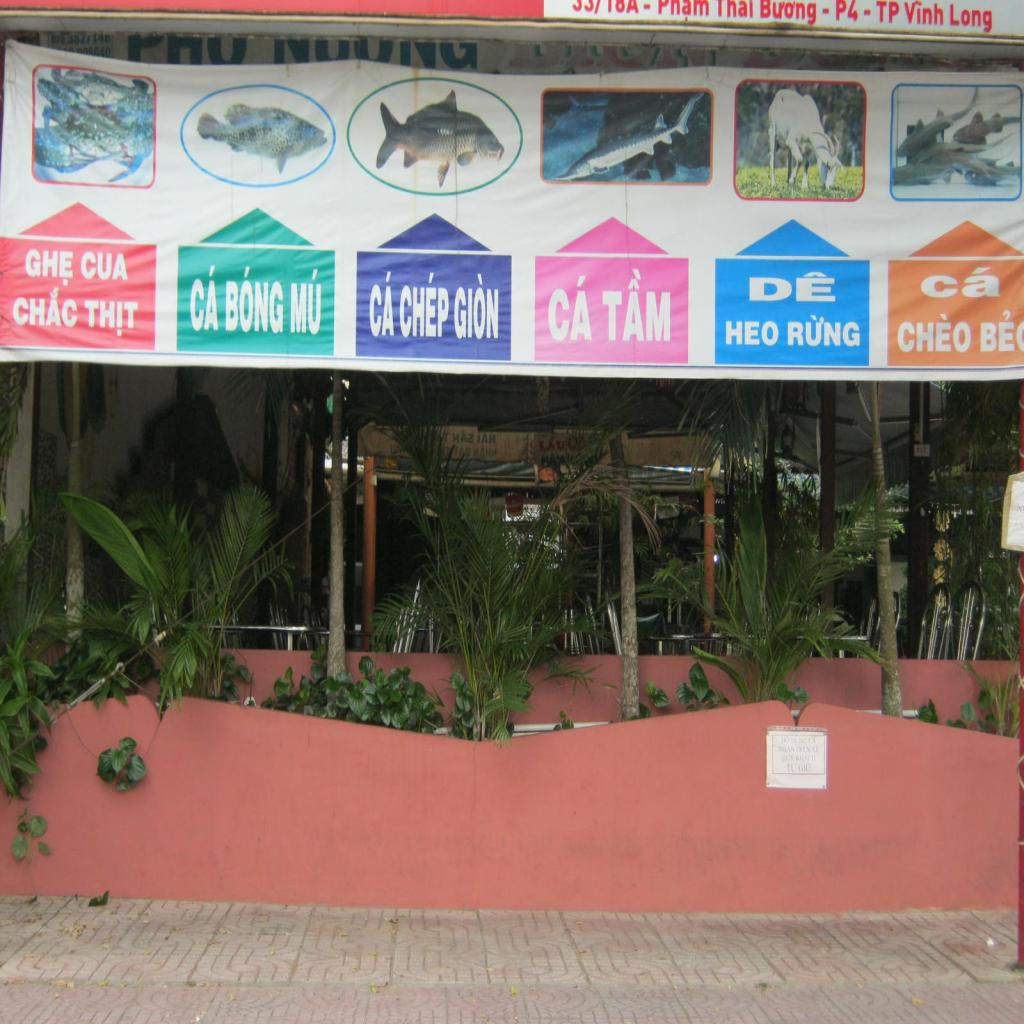text: (598, 266, 674, 348), (222, 262, 288, 338), (398, 268, 452, 344), (544, 270, 595, 346), (896, 310, 972, 359), (452, 271, 501, 344), (782, 312, 865, 354), (916, 264, 1003, 303), (746, 268, 838, 304), (11, 284, 80, 330), (82, 296, 141, 341), (289, 265, 323, 337), (190, 263, 222, 334), (23, 248, 77, 288), (368, 268, 396, 340), (976, 309, 1018, 354), (80, 249, 132, 285), (724, 318, 780, 348), (903, 0, 947, 28), (680, 0, 712, 23), (536, 432, 566, 454), (875, 1, 901, 26), (834, 1, 860, 24), (795, 754, 818, 764), (777, 742, 795, 754), (781, 752, 795, 763), (798, 763, 812, 774), (640, 1, 654, 11), (786, 762, 798, 773), (820, 6, 832, 17), (862, 8, 874, 17), (810, 744, 820, 754)
